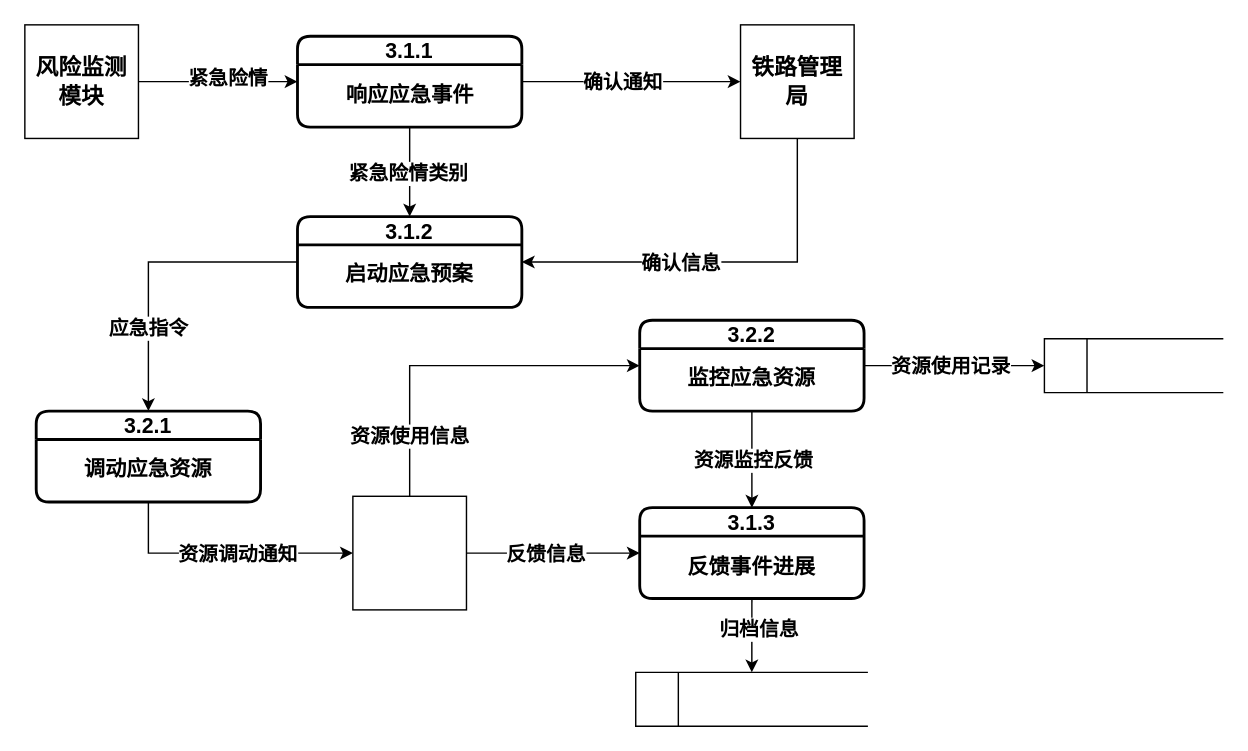
The diagram is 1248 pixels wide and 751 high, and some of its shapes have lost their labels. The shapes that lost their labels are listed below. From the top down, each one's centre as x and y in pixels, then its label:
At (1133,365): "物资库存".
At (408,552): "抢险队".
At (751,698): "应急事件记录".
